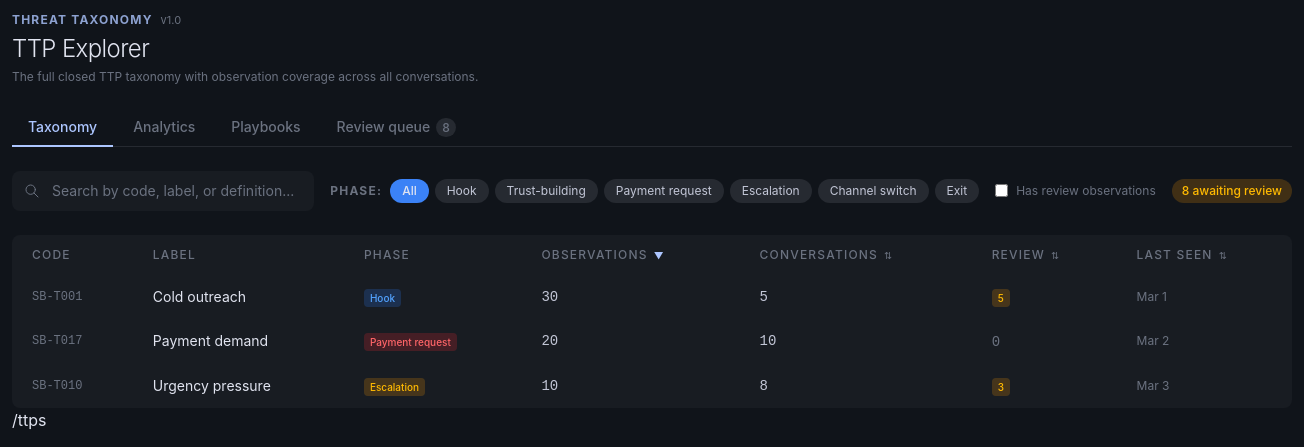
Test case: TtpExplorer — coverage gaps › shows the no-match empty state when a search excludes every row
Expected: the text "Cold outreach" is shown, [133,274,344,319]
Type "zzzznope" into the field named "Search TTPs" at (163, 190), box [12,170,314,210]
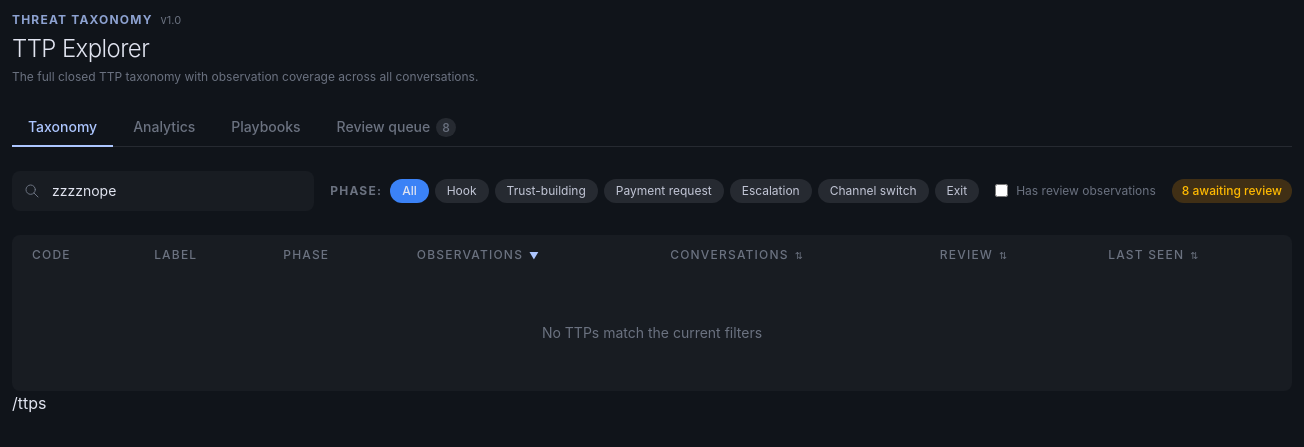
Now the text "No TTPs match the current filters" is shown, box [12,274,1292,390]
